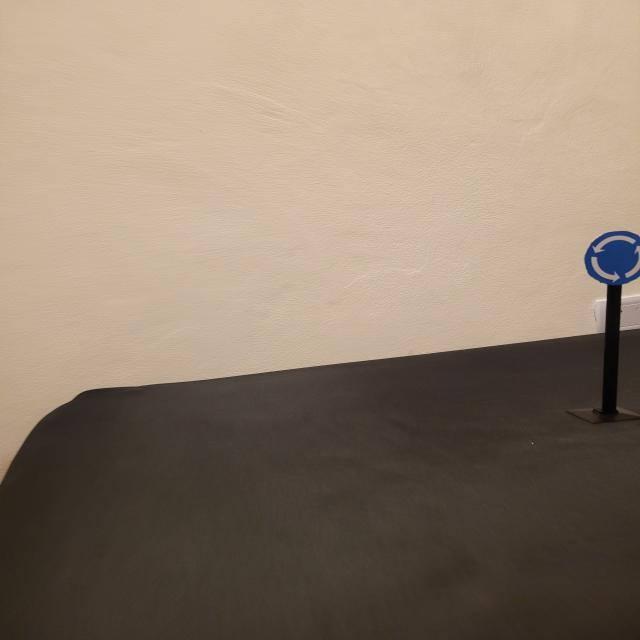round_about: (583, 230, 640, 286)
